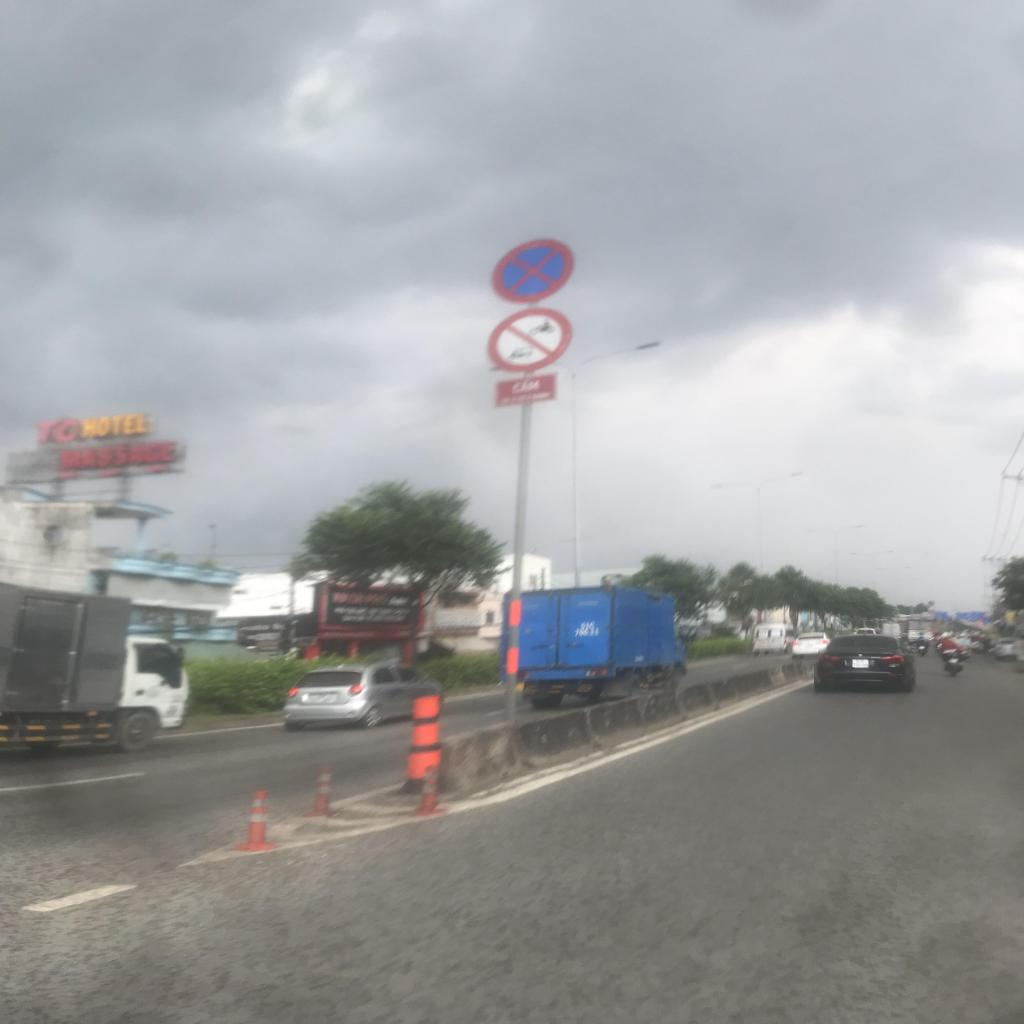cam_dung_xe_va_do_xe: (490, 240, 573, 302)
cam_xe_2_banh_va_xe_3_banh_co_dong_co: (487, 308, 571, 373)
